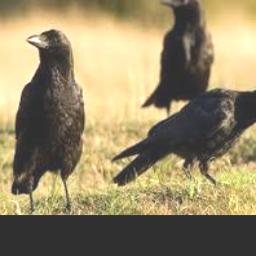Crow: (111, 87, 256, 188), (12, 28, 85, 213), (141, 0, 213, 119)
